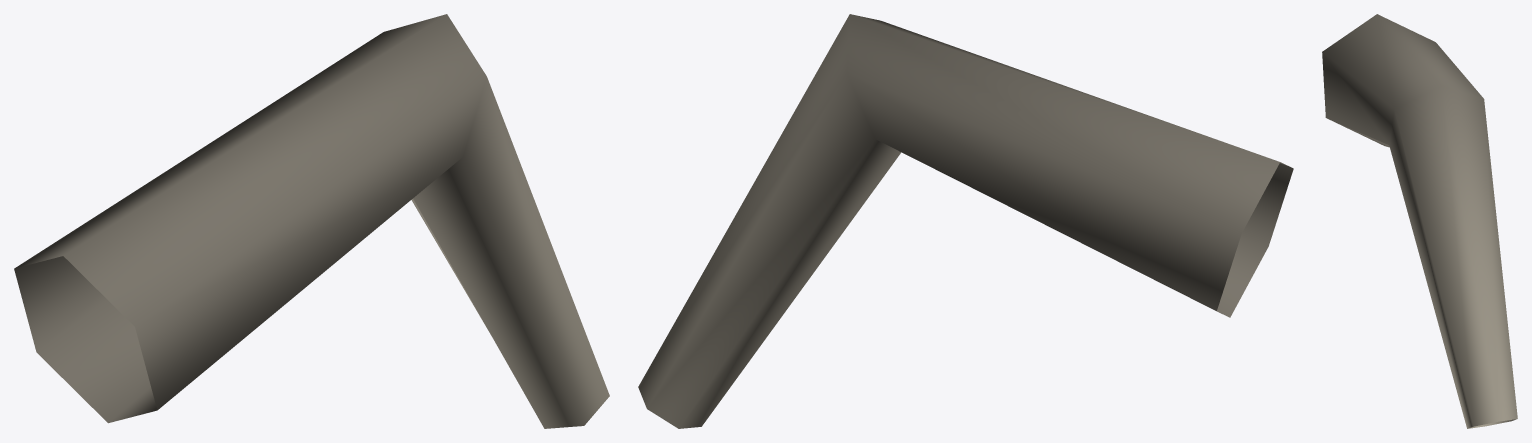
File: PillBug_Leg1.fbx
The picture shows the model from 3 angles, left to right: view 1: azimuth 30°, elevation 25°; view 2: azimuth 150°, elevation 25°; view 3: azimuth 270°, elevation 25°; orthographic projection. The views are drawn at different scales.
Visible parts, largest first — view 1: PillBug_Leg1; view 2: PillBug_Leg1; view 3: PillBug_Leg1.
Part boxes in pixels (<box>): PillBug_Leg1: <box>14,14,609,428</box>; PillBug_Leg1: <box>638,14,1293,428</box>; PillBug_Leg1: <box>1322,14,1517,428</box>.
Bounding box in the file's own units: 0.0827 × 0.0592 × 0.0351.
